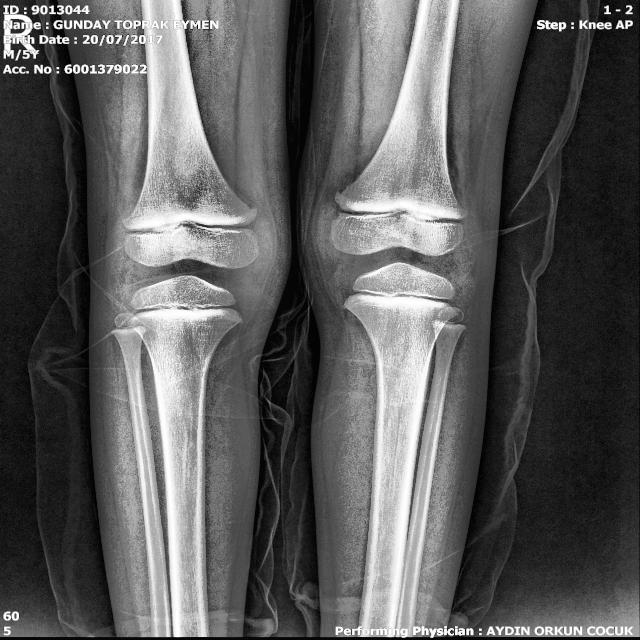Not_Fracture: (70, 0, 532, 640)
